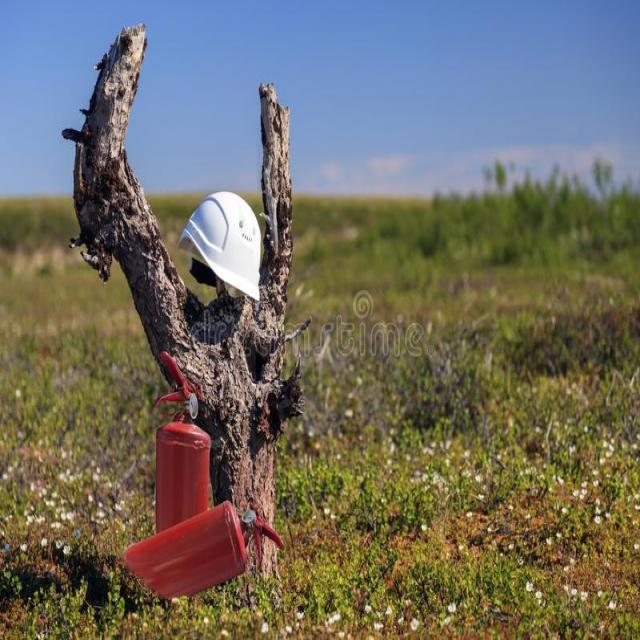fire_extinguisher: (115, 489, 293, 606), (150, 345, 218, 584)
